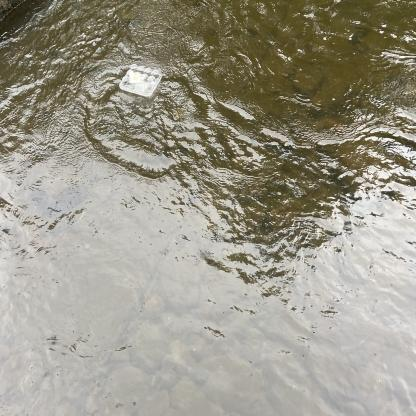trash: (116, 59, 166, 101)
